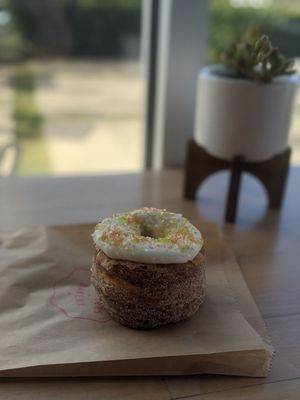pizza: (186, 64, 299, 223)
